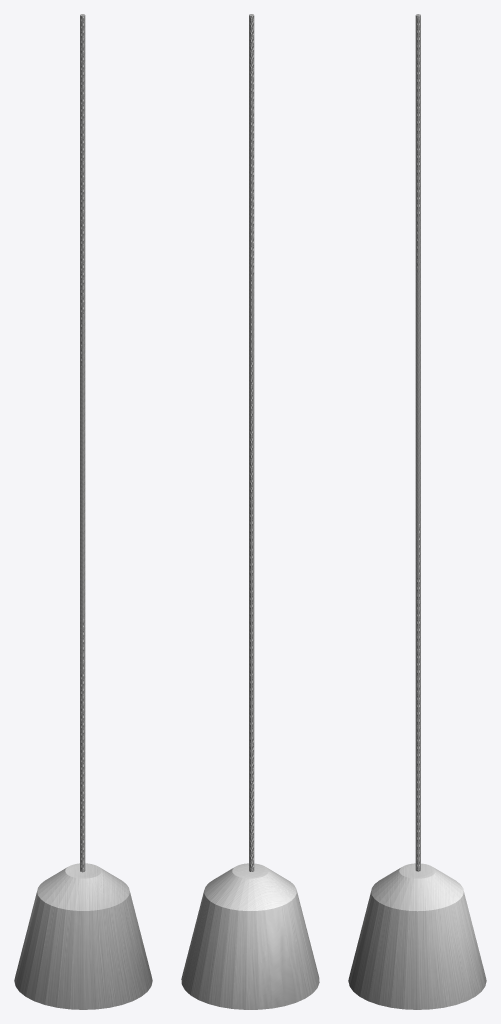
Rendered from round lamp.fbx.
The picture shows the model from 3 angles, left to right: view 1: azimuth 90°, elevation 25°; view 2: azimuth 210°, elevation 25°; view 3: azimuth 270°, elevation 25°; orthographic projection.
Visible parts, largest first — view 1: Cube.003, Cube.002; view 2: Cube.003, Cube.002; view 3: Cube.003, Cube.002.
Part boxes in pixels (<box>): Cube.003: <box>14,863,152,1009</box>; Cube.002: <box>80,14,85,872</box>; Cube.003: <box>181,863,319,1009</box>; Cube.002: <box>249,14,254,871</box>; Cube.003: <box>348,863,486,1009</box>; Cube.002: <box>415,14,420,871</box>.
Bounding box in the file's own units: 2.08 × 2.08 × 16.
2 materials, 2 textured.
